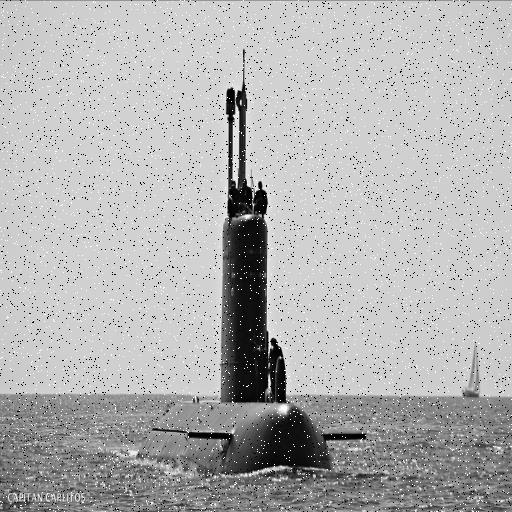submarine: (131, 32, 338, 475)
